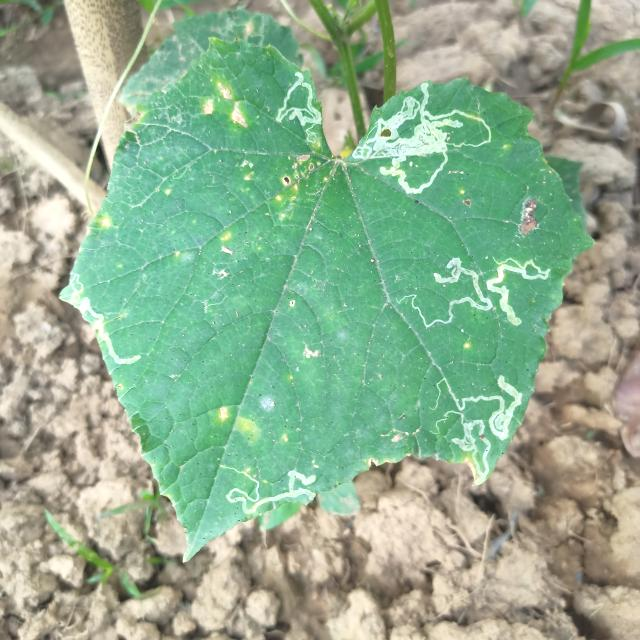disease_cucumber: (266, 151, 318, 225), (208, 401, 263, 449), (200, 82, 251, 130)
